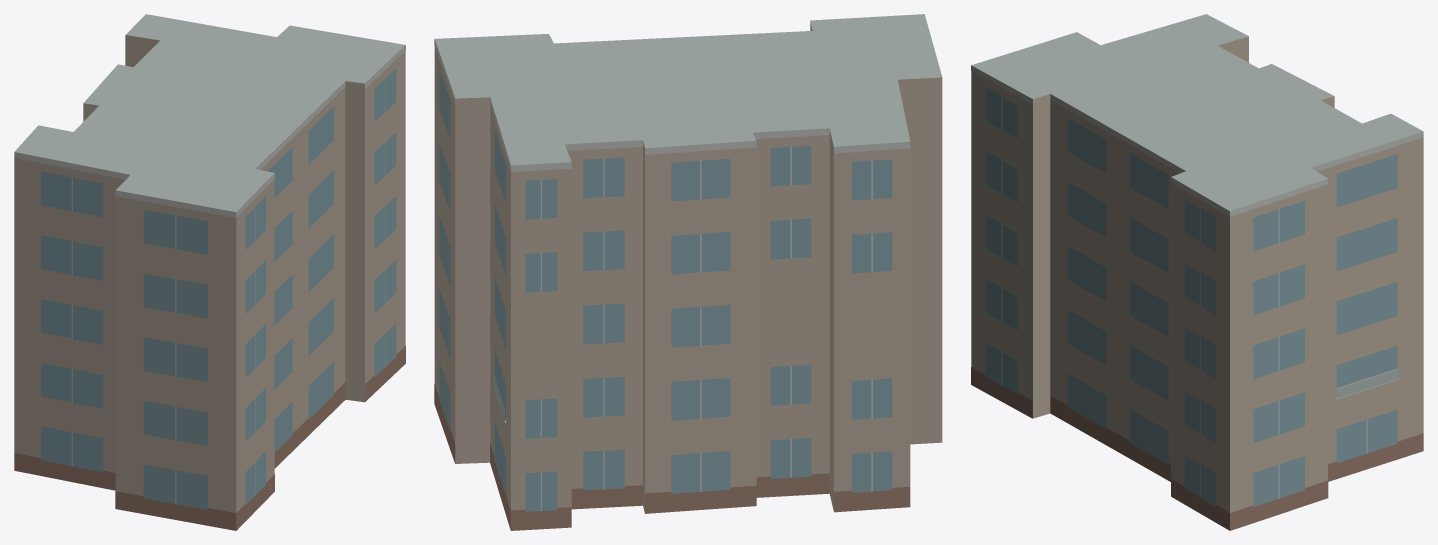
File: survey-upis-32850641.glb
3 renders of one model, left to right at view 1: azimuth 30°, elevation 25°; view 2: azimuth 150°, elevation 25°; view 3: azimuth 270°, elevation 25°, orthographic. The views are drawn at different scales.
Parts seen in each view (by area): view 1: survey-upis-32850641.tmp; view 2: survey-upis-32850641.tmp; view 3: survey-upis-32850641.tmp.
Boxes of the visible parts, box(x1,y1,x2,y2) form: survey-upis-32850641.tmp: box(14, 14, 405, 530); survey-upis-32850641.tmp: box(434, 14, 942, 530); survey-upis-32850641.tmp: box(971, 14, 1423, 530).
Bounding box in the file's own units: 17.75 × 13.4 × 17.2.
